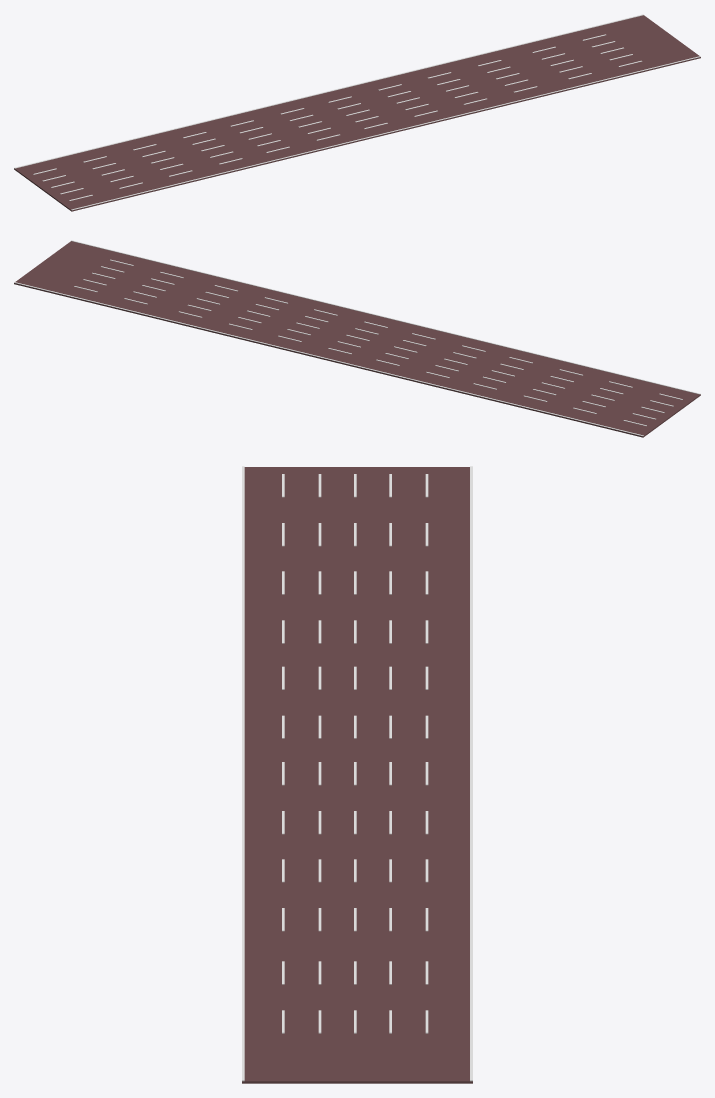
Rendered from chedao_06.FBX.
3 views of the same model, one above another, from view 1: azimuth 30°, elevation 25°; view 2: azimuth 150°, elevation 25°; view 3: azimuth 270°, elevation 25° (orthographic). The views are drawn at different scales.
Parts seen in each view (by area): view 1: chedao_06; view 2: chedao_06; view 3: chedao_06.
Part boxes in pixels (<box>): chedao_06: <box>14,14,700,211</box>; chedao_06: <box>14,240,700,437</box>; chedao_06: <box>242,466,472,1083</box>.
Size of the model in its own units: 19138 by 46.66 by 3041.
